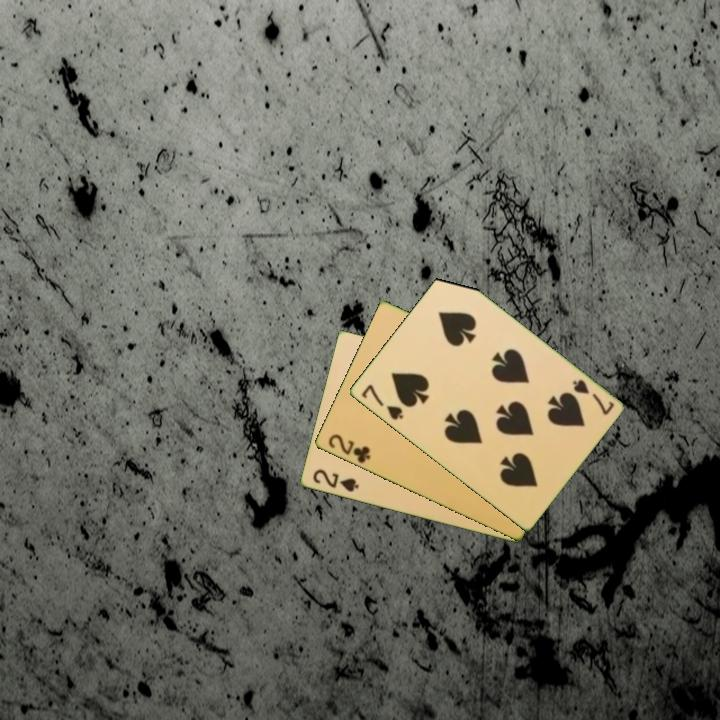2c: (324, 431, 373, 466)
2s: (309, 466, 361, 495)
7s: (357, 381, 406, 423), (569, 376, 617, 418)
